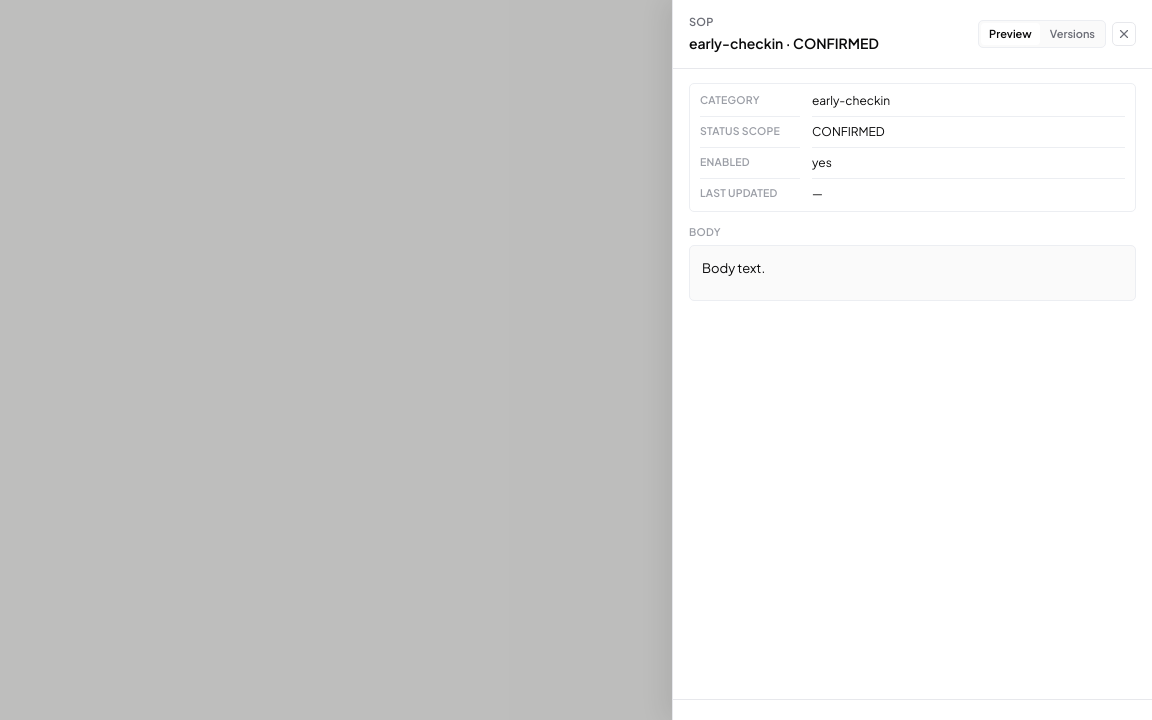
Test case: ArtifactDrawer — Versions tab wiring (058-A F3/F6/F7) › renders the VersionsTab empty state when no rows match
Expected: the text "Body text." is shown, [702,260,765,276]
Click the tab with test id "artifact-drawer-tab-versions" at [1072, 34], box [1042,22,1103,45]
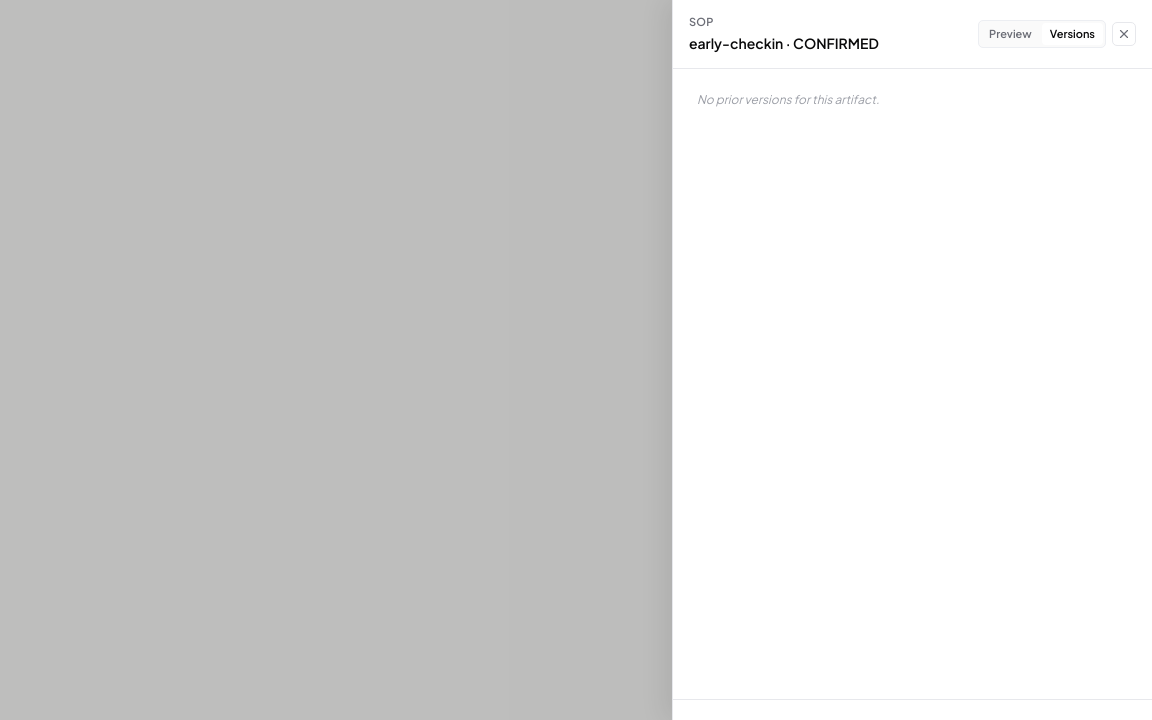
Result: the text "No prior versions for this artifact." is shown at [697,92,879,106]
